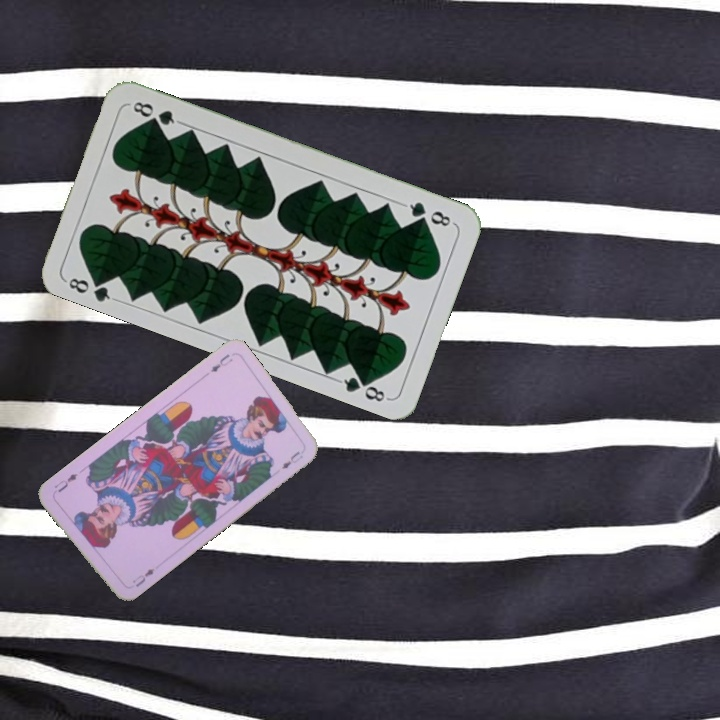EU: (206, 349, 235, 375), (128, 564, 157, 589)
G8: (62, 270, 119, 304), (399, 197, 454, 229)
